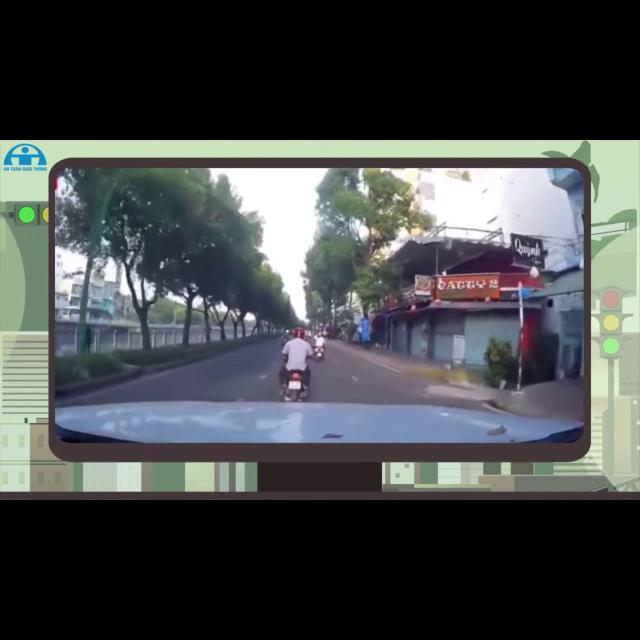motorcycle: (281, 371, 307, 402), (283, 371, 306, 402), (314, 347, 324, 360)
